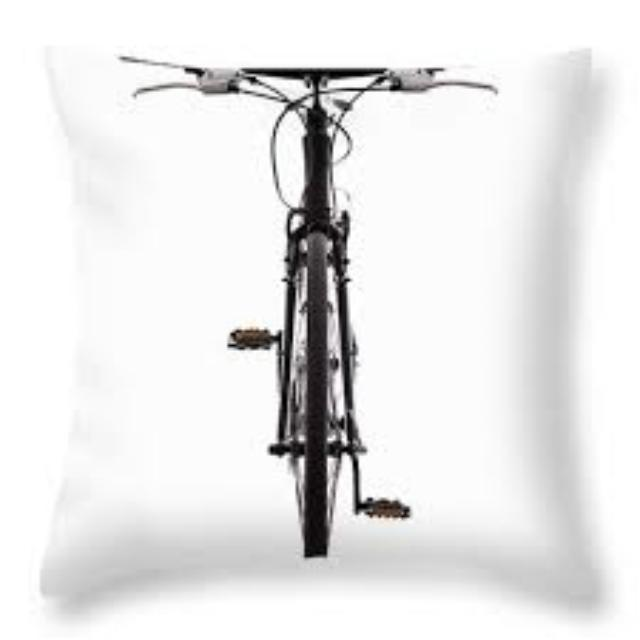obstacle: (118, 29, 508, 585)
